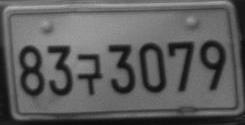0: (138, 42, 167, 93)
3: (108, 43, 136, 94), (47, 44, 73, 96)
7: (168, 41, 195, 92)
8: (18, 43, 45, 96)
9: (198, 39, 226, 91)
구: (77, 53, 103, 95)
